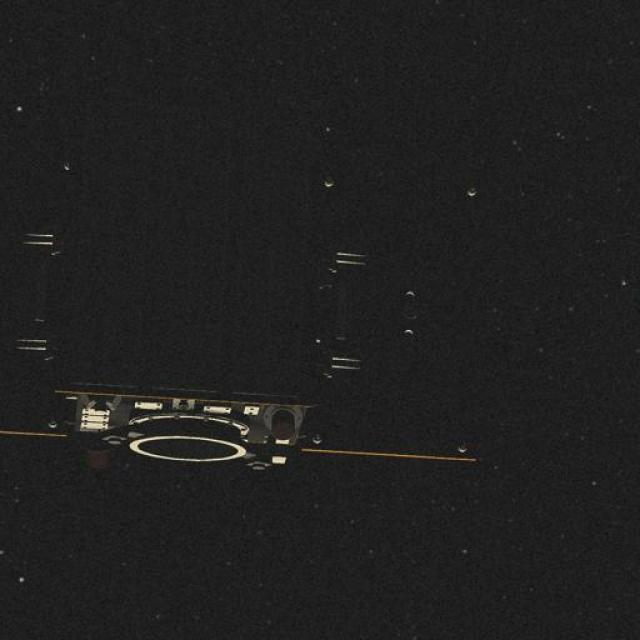proba_2: (46, 138, 488, 493)
